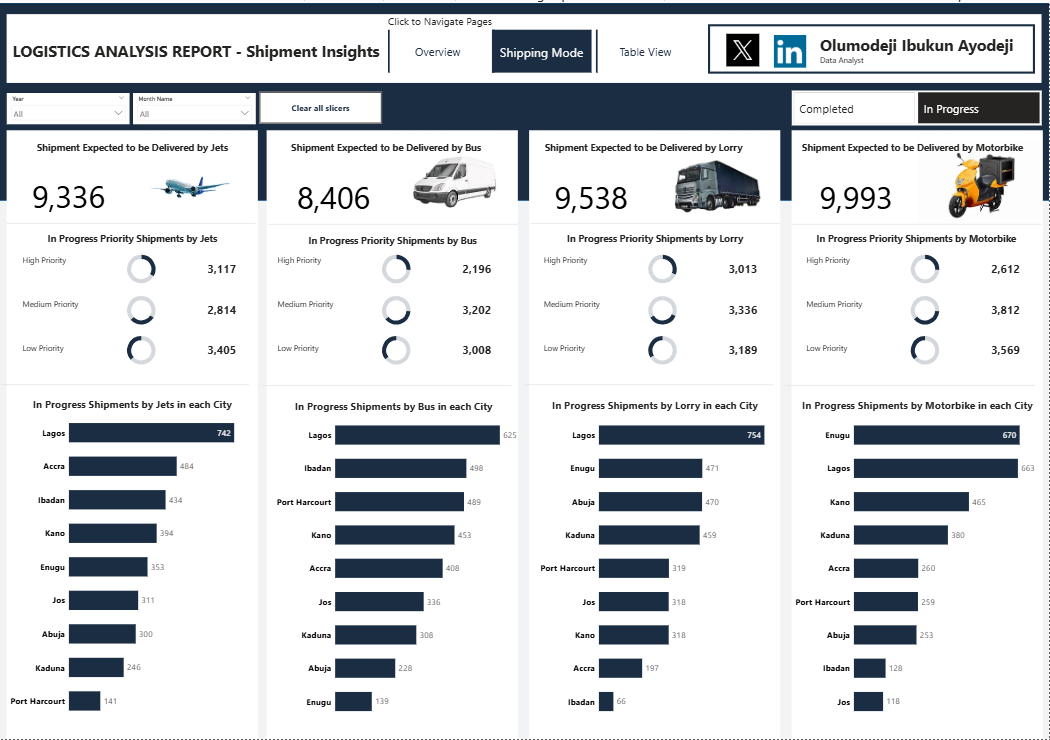

What the dashboard file says about the page in this screenshot:
{"tool":"powerbi","page":{"name":"Shipping Mode","canvas":[2500,1750],"ordinal":1},"visuals":[{"type":"shape","box":[0,0,2500,470],"z":0},{"type":"shape","box":[20,516.7,592,14],"z":0,"group":"g2"},{"type":"textbox","box":[54.3,592.9,161,45],"z":0,"group":"g3"},{"type":"textbox","box":[660,592.9,161,45],"z":0,"group":"g4"},{"type":"textbox","box":[1292,592.9,161,45],"z":0,"group":"g5"},{"type":"textbox","box":[1916,592.9,161,45],"z":0,"group":"g6"},{"type":"shape","box":[6.7,900,592,14],"z":0,"group":"g1"},{"type":"shape","box":[1687.5,50,777.5,117.5],"z":500,"group":"g8"},{"type":"image","box":[1693.8,68.7,153.6,87.5],"z":750,"group":"g8"},{"type":"image","box":[1823.7,70,117.5,87.5],"z":1000,"group":"g8"},{"type":"shape","box":[20,303.3,596.7,1446.7],"z":1000},{"type":"shape","box":[642,518.7,594,12],"z":1000,"group":"g2"},{"type":"textbox","box":[54.9,697.1,161.2,45],"z":1000,"group":"g3"},{"type":"textbox","box":[660.6,697.1,161.2,45],"z":1000,"group":"g4"},{"type":"textbox","box":[1292.6,697.1,161.2,45],"z":1000,"group":"g5"},{"type":"textbox","box":[1916.6,697.1,161.2,45],"z":1000,"group":"g6"},{"type":"shape","box":[628.7,902,594,12],"z":1000,"group":"g1"},{"type":"textbox","box":[1949.7,68.7,507,97.5],"z":2000,"group":"g8"},{"type":"shape","box":[640,303.3,596.7,1446.7],"z":2000},{"type":"shape","box":[1264,516.7,592,14],"z":2000,"group":"g2"},{"type":"textbox","box":[54.9,801.2,161,45],"z":2000,"group":"g3"},{"type":"textbox","box":[660.6,801.2,161,45],"z":2000,"group":"g4"},{"type":"textbox","box":[1292.6,801.2,161,45],"z":2000,"group":"g5"},{"type":"textbox","box":[1916.6,801.2,161,45],"z":2000,"group":"g6"},{"type":"shape","box":[1250.7,900,592,14],"z":2000,"group":"g1"},{"type":"shape","box":[1263.3,303.3,596.7,1446.7],"z":3000},{"type":"shape","box":[1886,518.7,594,12],"z":3000,"group":"g2"},{"type":"donutChart","fields":{"Y":["_Page2.P_High_Jets","_Page2.P_Medium_Jets","_Page2.P_Low_Jets"]},"box":[273.3,585,135,94.6],"z":3000,"group":"g3"},{"type":"donutChart","fields":{"Y":["_Page2.P_High_Bus","_Page2.P_Medium_Bus","_Page2.P_Low_Bus"]},"box":[879,585,135,94.6],"z":3000,"group":"g4"},{"type":"donutChart","fields":{"Y":["_Page2.P_High_Lorry","_Page2.P_Medium_Lorry","_Page2.P_Low_Lorry"]},"box":[1511,585,135,94.6],"z":3000,"group":"g5"},{"type":"donutChart","fields":{"Y":["_Page2.P_High_Motorbike","_Page2.P_Medium_Motorbike","_Page2.P_Low_Motorbike"]},"box":[2135,585,135,94.6],"z":3000,"group":"g6"},{"type":"shape","box":[1872.7,902,594,12],"z":3000,"group":"g1"},{"type":"shape","box":[1886.7,303.3,596.7,1446.7],"z":4000},{"type":"donutChart","fields":{"Y":["_Page2.P_High_Jets","_Page2.P_Medium_Jets","_Page2.P_Low_Jets"]},"box":[273.7,681.7,135,94.6],"z":4000,"group":"g3"},{"type":"donutChart","fields":{"Y":["_Page2.P_High_Bus","_Page2.P_Medium_Bus","_Page2.P_Low_Bus"]},"box":[879.4,681.7,135,94.6],"z":4000,"group":"g4"},{"type":"donutChart","fields":{"Y":["_Page2.P_High_Lorry","_Page2.P_Medium_Lorry","_Page2.P_Low_Lorry"]},"box":[1511.4,681.7,135,94.6],"z":4000,"group":"g5"},{"type":"donutChart","fields":{"Y":["_Page2.P_High_Motorbike","_Page2.P_Medium_Motorbike","_Page2.P_Low_Motorbike"]},"box":[2135.4,681.7,135,94.6],"z":4000,"group":"g6"},{"type":"shape","box":[20,26.7,2460,163.3],"z":5000},{"type":"donutChart","fields":{"Y":["_Page2.P_High_Jets","_Page2.P_Medium_Jets","_Page2.P_Low_Jets"]},"box":[274.2,778.3,135,94.6],"z":5000,"group":"g3"},{"type":"donutChart","fields":{"Y":["_Page2.P_High_Bus","_Page2.P_Medium_Bus","_Page2.P_Low_Bus"]},"box":[879.9,778.3,135,94.6],"z":5000,"group":"g4"},{"type":"donutChart","fields":{"Y":["_Page2.P_High_Lorry","_Page2.P_Medium_Lorry","_Page2.P_Low_Lorry"]},"box":[1511.9,778.3,135,94.6],"z":5000,"group":"g5"},{"type":"donutChart","fields":{"Y":["_Page2.P_High_Motorbike","_Page2.P_Medium_Motorbike","_Page2.P_Low_Motorbike"]},"box":[2135.9,778.3,135,94.6],"z":5000,"group":"g6"},{"type":"advancedSlicerVisual","fields":{"Values":["Shipping Status.Status"]},"box":[1887.3,208.1,594.4,83.2],"z":6000},{"type":"card","fields":{"Values":["_Page2.P_High_Jets"]},"box":[460,603.1,143.3,58.3],"z":6000,"group":"g3"},{"type":"card","fields":{"Values":["_Page2.P_High_Bus"]},"box":[1065.7,603.1,143.3,58.3],"z":6000,"group":"g4"},{"type":"card","fields":{"Values":["_Page2.P_High_Lorry"]},"box":[1697.7,603.1,143.3,58.3],"z":6000,"group":"g5"},{"type":"card","fields":{"Values":["_Page2.P_High_Motorbike"]},"box":[2321.7,603.1,143.3,58.3],"z":6000,"group":"g6"},{"type":"card","fields":{"Values":["_Page2.Mode_Jets"]},"box":[17.5,370,300,175],"z":7000},{"type":"card","fields":{"Values":["_Page2.P_Medium_Jets"]},"box":[460,699.8,143.3,58.3],"z":7000,"group":"g3"},{"type":"card","fields":{"Values":["_Page2.P_Medium_Bus"]},"box":[1065.7,699.8,143.3,58.3],"z":7000,"group":"g4"},{"type":"card","fields":{"Values":["_Page2.P_Medium_Lorry"]},"box":[1697.7,699.8,143.3,58.3],"z":7000,"group":"g5"},{"type":"card","fields":{"Values":["_Page2.P_Medium_Motorbike"]},"box":[2321.7,699.8,143.3,58.3],"z":7000,"group":"g6"},{"type":"image","box":[280,367.5,337.5,157.5],"z":8000},{"type":"card","fields":{"Values":["_Page2.P_Low_Jets"]},"box":[460,796.5,143.3,58.3],"z":8000,"group":"g3"},{"type":"card","fields":{"Values":["_Page2.P_Low_Bus"]},"box":[1065.7,796.5,143.3,58.3],"z":8000,"group":"g4"},{"type":"card","fields":{"Values":["_Page2.P_Low_Lorry"]},"box":[1697.7,796.5,143.3,58.3],"z":8000,"group":"g5"},{"type":"card","fields":{"Values":["_Page2.P_Low_Motorbike"]},"box":[2321.7,796.5,143.3,58.3],"z":8000,"group":"g6"},{"type":"card","fields":{"Values":["_Page2.Mode_Bus"]},"box":[647.9,369.6,300.2,175.4],"z":9000},{"type":"card","fields":{"Values":["_Page2.Mode_Lorry"]},"box":[1260.2,369.6,300.2,175.4],"z":10000},{"type":"card","fields":{"Values":["_Page2.Mode_Motorbike"]},"box":[1890.3,369.6,300.2,175.4],"z":11000},{"type":"image","box":[948.1,303.2,261.6,237.8],"z":12000},{"type":"image","box":[1554.4,303.2,300.2,240.7],"z":13000},{"type":"image","box":[2181.6,303.2,300.2,246.7],"z":14000},{"type":"card","fields":{"Values":["_Page2.Title_Jets"]},"box":[0,303.2,639,83.2],"z":15000},{"type":"card","fields":{"Values":["_Page2.Title_Bus"]},"box":[603.3,303.2,639,83.2],"z":16000},{"type":"card","fields":{"Values":["_Page2.Title_Lorry"]},"box":[1215.6,303.2,639,83.2],"z":17000},{"type":"card","fields":{"Values":["_Page2.Title_Motorbike"]},"box":[1854.6,303.2,639,83.2],"z":18000},{"type":"card","fields":{"Values":["_Page2.P_Title_Jets"]},"box":[20,525,597.5,72.5],"z":19000},{"type":"group","id":"g1","title":"Group 1","box":[6.7,900,2460,13.3],"z":20000},{"type":"group","id":"g2","title":"Group 2","box":[20,516.7,2460,16.7],"z":21000},{"type":"card","fields":{"Values":["_Page2.P_Title_Bus"]},"box":[640,530,598,72],"z":22000},{"type":"card","fields":{"Values":["_Page2.P_Title_Lorry"]},"box":[1262,526,598,72],"z":23000},{"type":"card","fields":{"Values":["_Page2.P_Title_Motorbike"]},"box":[1884,526,598,72],"z":24000},{"type":"group","id":"g3","title":"PJ","box":[54.3,585,549,287.9],"z":25000},{"type":"group","id":"g4","title":"PB","box":[660,585,550,286],"z":26000},{"type":"group","id":"g5","title":"PL","box":[1292,585,550,286],"z":27000},{"type":"group","id":"g6","title":"PM","box":[1916,585,550,286],"z":28000},{"type":"card","fields":{"Values":["_Page2.Location_Title_Jets"]},"box":[22,919,597.5,72.5],"z":29000},{"type":"card","fields":{"Values":["_Page2.Location_Title_Bus"]},"box":[642,924,598,72],"z":30000},{"type":"card","fields":{"Values":["_Page2.Location_Title_Lorry"]},"box":[1264,920,598,72],"z":31000},{"type":"group","id":"g7","title":"Profile_Name","box":[1687.5,50,777.5,117.5],"z":32000},{"type":"card","fields":{"Values":["_Page2.Location_Title_Motorbike"]},"box":[1886,920,598,72],"z":33000},{"type":"clusteredBarChart","fields":{"Y":["_Page2.Mode_Jets"],"Category":["DimLocation.City"]},"box":[22.5,955,582.5,767.5],"z":34000},{"type":"clusteredBarChart","fields":{"Category":["DimLocation.City"],"Y":["_Page2.Mode_Bus"]},"box":[657.5,960,582.5,762.5],"z":35000},{"type":"clusteredBarChart","fields":{"Category":["DimLocation.City"],"Y":["_Page2.Mode_Lorry"]},"box":[1285,960,582.5,762.5],"z":36000},{"type":"clusteredBarChart","fields":{"Y":["_Page2.Mode_Motorbike"],"Category":["DimLocation.City"]},"box":[1890,960,582.5,762.5],"z":37000},{"type":"textbox","box":[30,82,1062,108],"z":38000},{"type":"pageNavigator","title":"Click to Navigate Pages","box":[927.3,26.7,731.2,139.7],"z":39000},{"type":"group","id":"g8","title":"Group 3","box":[1687.5,50,777.5,117.5],"z":39001,"group":"g7"},{"type":"slicer","fields":{"Values":["Date Table.Year"]},"box":[20,214,292,74],"z":40000},{"type":"slicer","fields":{"Values":["Date Table.Month Name"]},"box":[320,214,292,74],"z":41000},{"type":"actionButton","box":[620,212,292,76],"z":42000}]}

Visuals, with their boxes in screenshot pixels (x1, y1, x2, y2), scaled from the page's 2500x1750 canvas onto the 1050x740 screenshot:
shape: <bbox>0, 0, 1049, 199</bbox>
shape: <bbox>8, 218, 257, 224</bbox>
textbox: <bbox>23, 251, 90, 270</bbox>
textbox: <bbox>277, 251, 345, 270</bbox>
textbox: <bbox>543, 251, 610, 270</bbox>
textbox: <bbox>805, 251, 872, 270</bbox>
shape: <bbox>3, 381, 251, 386</bbox>
shape: <bbox>709, 21, 1035, 71</bbox>
image: <bbox>711, 29, 776, 66</bbox>
image: <bbox>766, 30, 815, 67</bbox>
shape: <bbox>8, 128, 259, 739</bbox>
shape: <bbox>270, 219, 519, 224</bbox>
textbox: <bbox>23, 295, 91, 314</bbox>
textbox: <bbox>277, 295, 345, 314</bbox>
textbox: <bbox>543, 295, 611, 314</bbox>
textbox: <bbox>805, 295, 873, 314</bbox>
shape: <bbox>264, 381, 514, 386</bbox>
textbox: <bbox>819, 29, 1032, 70</bbox>
shape: <bbox>269, 128, 519, 739</bbox>
shape: <bbox>531, 218, 780, 224</bbox>
textbox: <bbox>23, 339, 91, 358</bbox>
textbox: <bbox>277, 339, 345, 358</bbox>
textbox: <bbox>543, 339, 611, 358</bbox>
textbox: <bbox>805, 339, 873, 358</bbox>
shape: <bbox>525, 381, 774, 386</bbox>
shape: <bbox>531, 128, 781, 739</bbox>
shape: <bbox>792, 219, 1042, 224</bbox>
donutChart - _Page2.P_High_Jets x _Page2.P_Medium_Jets: <bbox>115, 247, 171, 287</bbox>
donutChart - _Page2.P_High_Bus x _Page2.P_Medium_Bus: <bbox>369, 247, 426, 287</bbox>
donutChart - _Page2.P_High_Lorry x _Page2.P_Medium_Lorry: <bbox>635, 247, 691, 287</bbox>
donutChart - _Page2.P_High_Motorbike x _Page2.P_Medium_Motorbike: <bbox>897, 247, 953, 287</bbox>
shape: <bbox>787, 381, 1036, 386</bbox>
shape: <bbox>792, 128, 1043, 739</bbox>
donutChart - _Page2.P_High_Jets x _Page2.P_Medium_Jets: <bbox>115, 288, 172, 328</bbox>
donutChart - _Page2.P_High_Bus x _Page2.P_Medium_Bus: <bbox>369, 288, 426, 328</bbox>
donutChart - _Page2.P_High_Lorry x _Page2.P_Medium_Lorry: <bbox>635, 288, 691, 328</bbox>
donutChart - _Page2.P_High_Motorbike x _Page2.P_Medium_Motorbike: <bbox>897, 288, 954, 328</bbox>
shape: <bbox>8, 11, 1042, 80</bbox>
donutChart - _Page2.P_High_Jets x _Page2.P_Medium_Jets: <bbox>115, 329, 172, 369</bbox>
donutChart - _Page2.P_High_Bus x _Page2.P_Medium_Bus: <bbox>370, 329, 426, 369</bbox>
donutChart - _Page2.P_High_Lorry x _Page2.P_Medium_Lorry: <bbox>635, 329, 692, 369</bbox>
donutChart - _Page2.P_High_Motorbike x _Page2.P_Medium_Motorbike: <bbox>897, 329, 954, 369</bbox>
advancedSlicerVisual - Shipping Status.Status: <bbox>793, 88, 1042, 123</bbox>
card - _Page2.P_High_Jets: <bbox>193, 255, 253, 280</bbox>
card - _Page2.P_High_Bus: <bbox>448, 255, 508, 280</bbox>
card - _Page2.P_High_Lorry: <bbox>713, 255, 773, 280</bbox>
card - _Page2.P_High_Motorbike: <bbox>975, 255, 1035, 280</bbox>
card - _Page2.Mode_Jets: <bbox>7, 156, 133, 230</bbox>
card - _Page2.P_Medium_Jets: <bbox>193, 296, 253, 321</bbox>
card - _Page2.P_Medium_Bus: <bbox>448, 296, 508, 321</bbox>
card - _Page2.P_Medium_Lorry: <bbox>713, 296, 773, 321</bbox>
card - _Page2.P_Medium_Motorbike: <bbox>975, 296, 1035, 321</bbox>
image: <bbox>118, 155, 259, 222</bbox>
card - _Page2.P_Low_Jets: <bbox>193, 337, 253, 361</bbox>
card - _Page2.P_Low_Bus: <bbox>448, 337, 508, 361</bbox>
card - _Page2.P_Low_Lorry: <bbox>713, 337, 773, 361</bbox>
card - _Page2.P_Low_Motorbike: <bbox>975, 337, 1035, 361</bbox>
card - _Page2.Mode_Bus: <bbox>272, 156, 398, 230</bbox>
card - _Page2.Mode_Lorry: <bbox>529, 156, 655, 230</bbox>
card - _Page2.Mode_Motorbike: <bbox>794, 156, 920, 230</bbox>
image: <bbox>398, 128, 508, 229</bbox>
image: <bbox>653, 128, 779, 230</bbox>
image: <bbox>916, 128, 1042, 233</bbox>
card - _Page2.Title_Jets: <bbox>0, 128, 268, 163</bbox>
card - _Page2.Title_Bus: <bbox>253, 128, 522, 163</bbox>
card - _Page2.Title_Lorry: <bbox>511, 128, 779, 163</bbox>
card - _Page2.Title_Motorbike: <bbox>779, 128, 1047, 163</bbox>
card - _Page2.P_Title_Jets: <bbox>8, 222, 259, 253</bbox>
"Group 1" group: <bbox>3, 381, 1036, 386</bbox>
"Group 2" group: <bbox>8, 218, 1042, 226</bbox>
card - _Page2.P_Title_Bus: <bbox>269, 224, 520, 255</bbox>
card - _Page2.P_Title_Lorry: <bbox>530, 222, 781, 253</bbox>
card - _Page2.P_Title_Motorbike: <bbox>791, 222, 1042, 253</bbox>
"PJ" group: <bbox>23, 247, 253, 369</bbox>
"PB" group: <bbox>277, 247, 508, 368</bbox>
"PL" group: <bbox>543, 247, 774, 368</bbox>
"PM" group: <bbox>805, 247, 1036, 368</bbox>
card - _Page2.Location_Title_Jets: <bbox>9, 389, 260, 419</bbox>
card - _Page2.Location_Title_Bus: <bbox>270, 391, 521, 421</bbox>
card - _Page2.Location_Title_Lorry: <bbox>531, 389, 782, 419</bbox>
"Profile_Name" group: <bbox>709, 21, 1035, 71</bbox>
card - _Page2.Location_Title_Motorbike: <bbox>792, 389, 1043, 419</bbox>
clusteredBarChart - _Page2.Mode_Jets x DimLocation.City: <bbox>9, 404, 254, 728</bbox>
clusteredBarChart - DimLocation.City x _Page2.Mode_Bus: <bbox>276, 406, 521, 728</bbox>
clusteredBarChart - DimLocation.City x _Page2.Mode_Lorry: <bbox>540, 406, 784, 728</bbox>
clusteredBarChart - _Page2.Mode_Motorbike x DimLocation.City: <bbox>794, 406, 1038, 728</bbox>
textbox: <bbox>13, 35, 459, 80</bbox>
"Click to Navigate Pages" pageNavigator: <bbox>389, 11, 697, 70</bbox>
"Group 3" group: <bbox>709, 21, 1035, 71</bbox>
slicer - Date Table.Year: <bbox>8, 90, 131, 122</bbox>
slicer - Date Table.Month Name: <bbox>134, 90, 257, 122</bbox>
actionButton: <bbox>260, 90, 383, 122</bbox>
